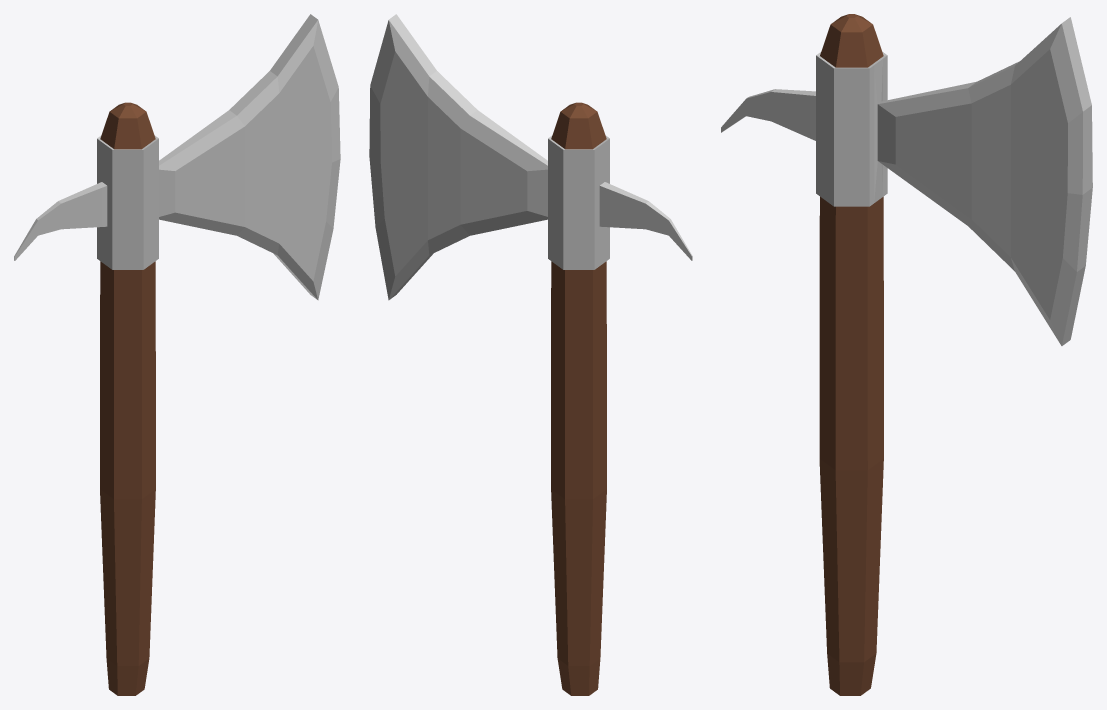
Rendered from simpleaxe.glb.
3 renders of one model, left to right at view 1: azimuth 30°, elevation 25°; view 2: azimuth 150°, elevation 25°; view 3: azimuth 330°, elevation 25°, orthographic. The views are drawn at different scales.
Visible parts, largest first — view 1: Cylinder; view 2: Cylinder; view 3: Cylinder.
Boxes of the visible parts, <box> form: Cylinder: <box>14,14,340,695</box>; Cylinder: <box>369,14,692,695</box>; Cylinder: <box>721,14,1092,695</box>.
Bounding box in the file's own units: 1.68 × 3.14 × 0.2825.
1 material, 1 textured.
